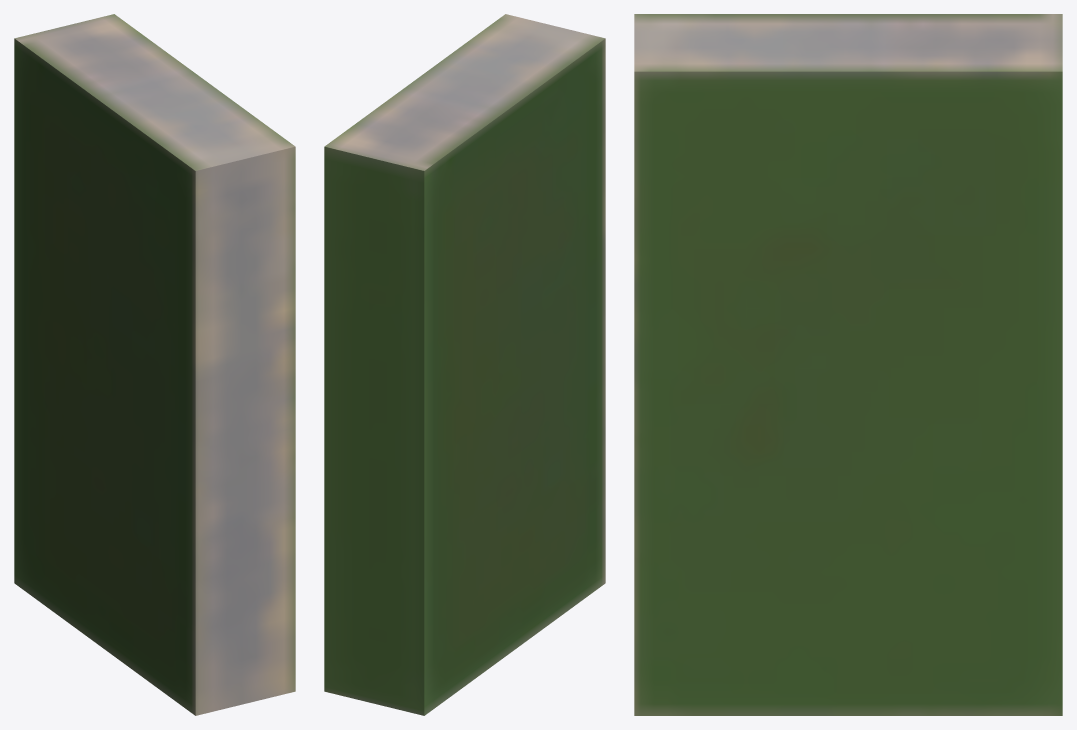
Rendered from Pfb_Indoors_Books__10.fbx.
3 renders of one model, left to right at view 1: azimuth 30°, elevation 25°; view 2: azimuth 150°, elevation 25°; view 3: azimuth 270°, elevation 25°, orthographic. The views are drawn at different scales.
Parts seen in each view (by area): view 1: Mat_Indoors_Books_01_2; view 2: Mat_Indoors_Books_01_2; view 3: Mat_Indoors_Books_01_2.
Boxes of the visible parts, x1=… form: Mat_Indoors_Books_01_2: x1=14, y1=14, x2=295, y2=715; Mat_Indoors_Books_01_2: x1=324, y1=14, x2=605, y2=715; Mat_Indoors_Books_01_2: x1=634, y1=14, x2=1062, y2=715.
Size of the model in its own units: 0.0639 by 0.3326 by 0.2005.
Materials: 1 (1 with a texture image).
